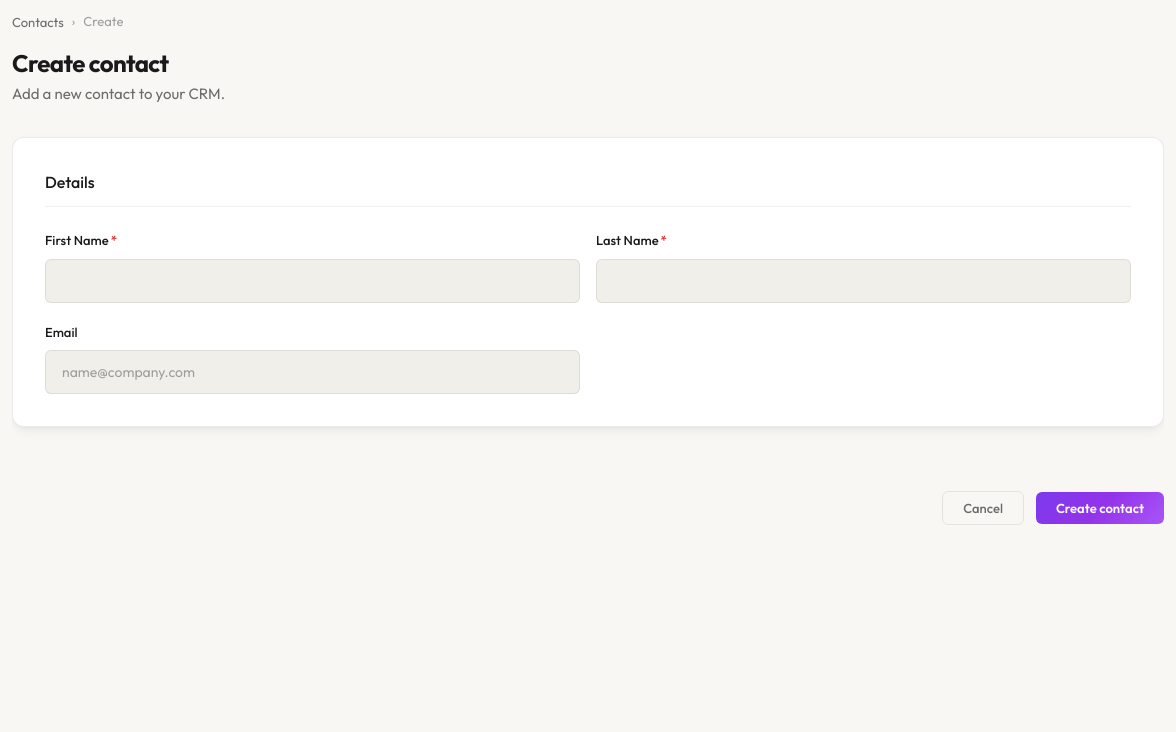
Test: CreateRecordPage › shows client-side validation error for required fields
Click the button "Create contact". click: click(1100, 508)
box: x1=1036 y1=492 x2=1164 y2=524
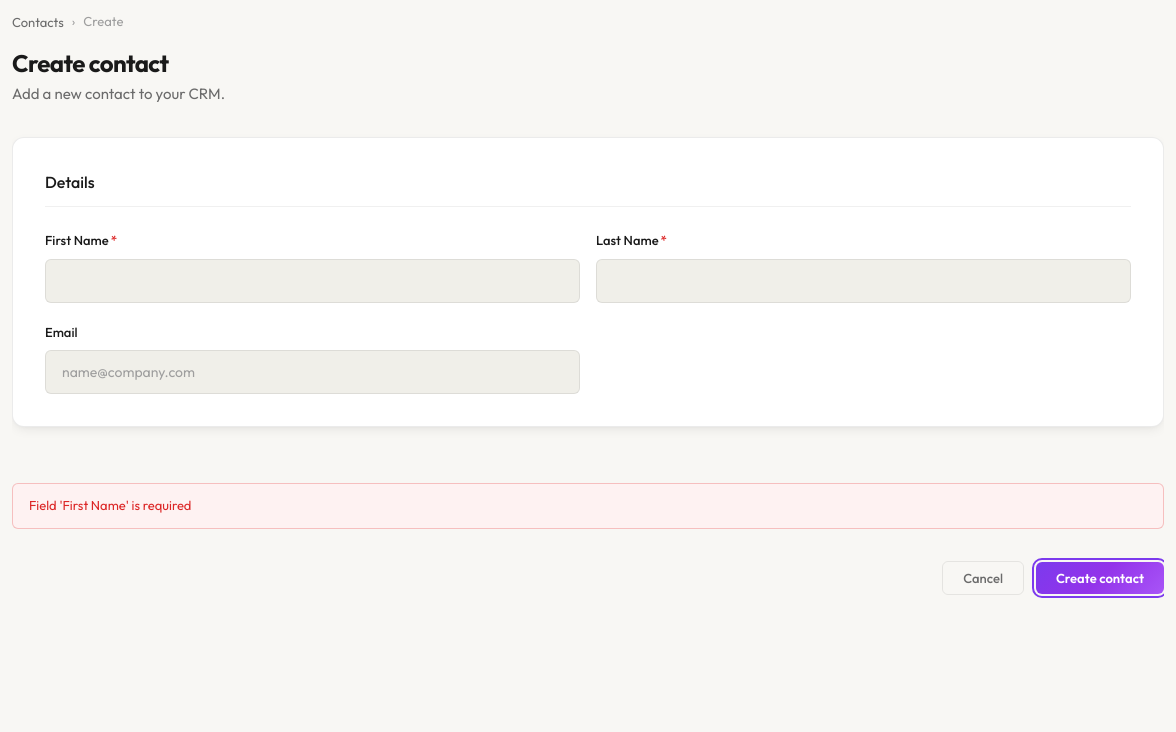
Check: the message reads "Field 'First Name' is required", box x1=29 y1=497 x2=191 y2=513
